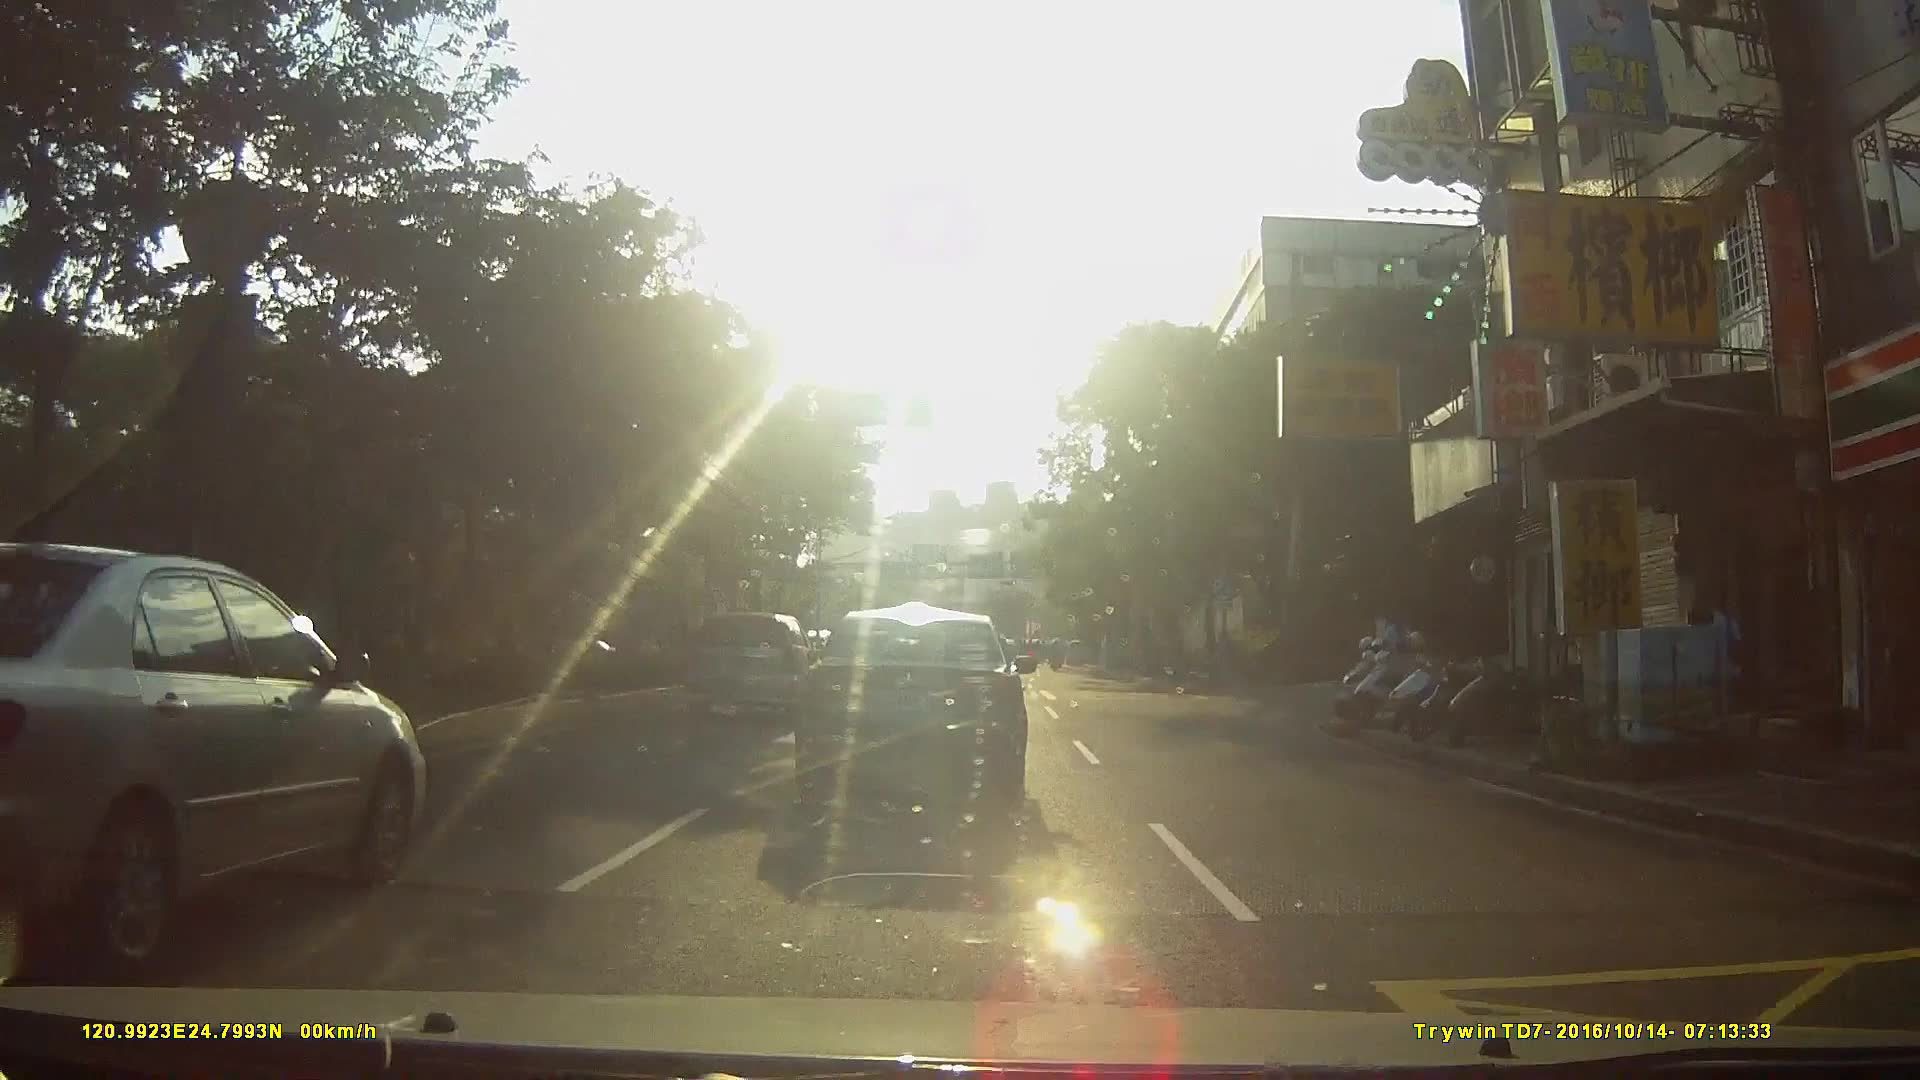pedestrian: (1682, 587, 1749, 740)
vehicle: (1, 536, 447, 968), (804, 601, 1053, 818), (684, 610, 820, 723), (1064, 636, 1096, 665)
